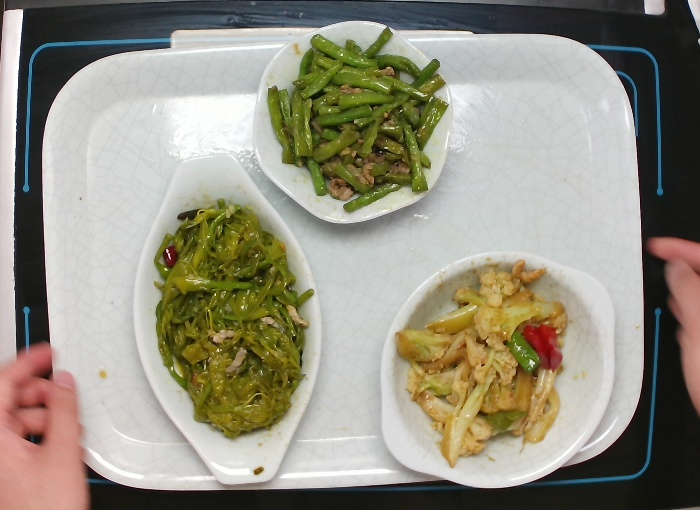JYsf-Shuang_Er_Wan: (382, 248, 614, 486)
JYsf-Yu_Pan: (130, 149, 332, 486)
WCQzf-Hua_Duo_Wan: (255, 13, 462, 229)
